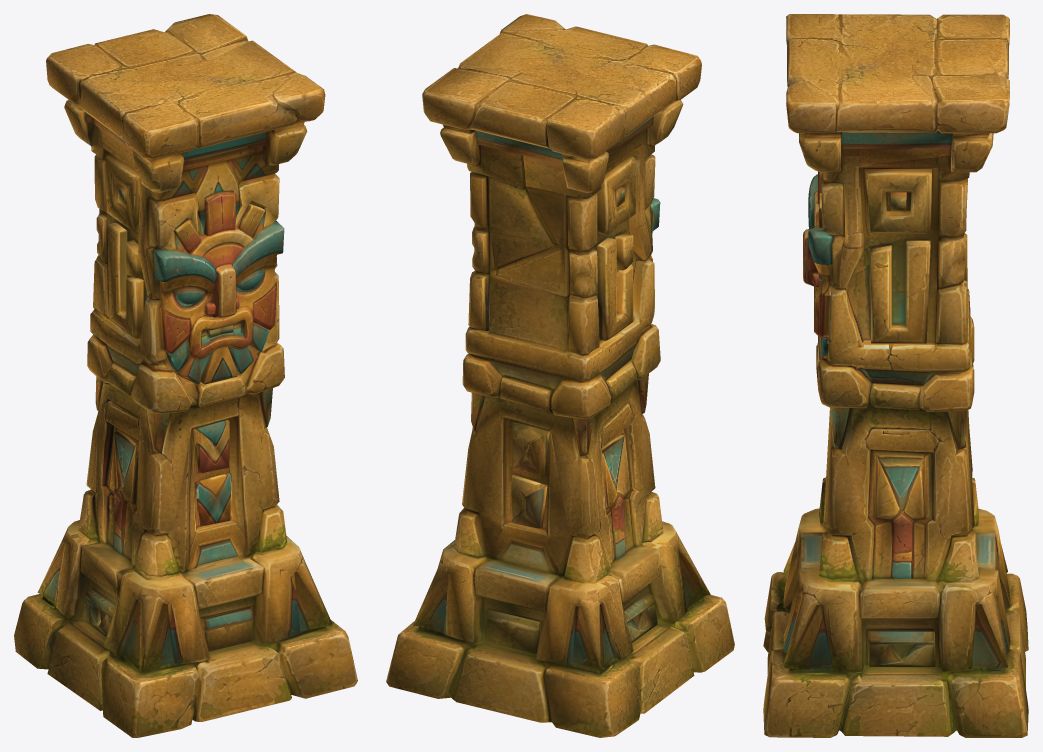
File: tiki-support-pier.glb
The picture shows the model from 3 angles, left to right: view 1: azimuth 30°, elevation 25°; view 2: azimuth 150°, elevation 25°; view 3: azimuth 270°, elevation 25°; orthographic projection. The views are drawn at different scales.
Parts seen in each view (by area): view 1: tripo_node_bcc8aca6-30e4-4f3b-9632-3d9d76983c88; view 2: tripo_node_bcc8aca6-30e4-4f3b-9632-3d9d76983c88; view 3: tripo_node_bcc8aca6-30e4-4f3b-9632-3d9d76983c88.
Part boxes in pixels (bbox=[...]): tripo_node_bcc8aca6-30e4-4f3b-9632-3d9d76983c88: bbox=[14, 14, 357, 737]; tripo_node_bcc8aca6-30e4-4f3b-9632-3d9d76983c88: bbox=[386, 14, 734, 737]; tripo_node_bcc8aca6-30e4-4f3b-9632-3d9d76983c88: bbox=[763, 14, 1028, 737].
Bounding box in the file's own units: 0.3979 × 0.9995 × 0.3862.
1 material, 1 textured.
